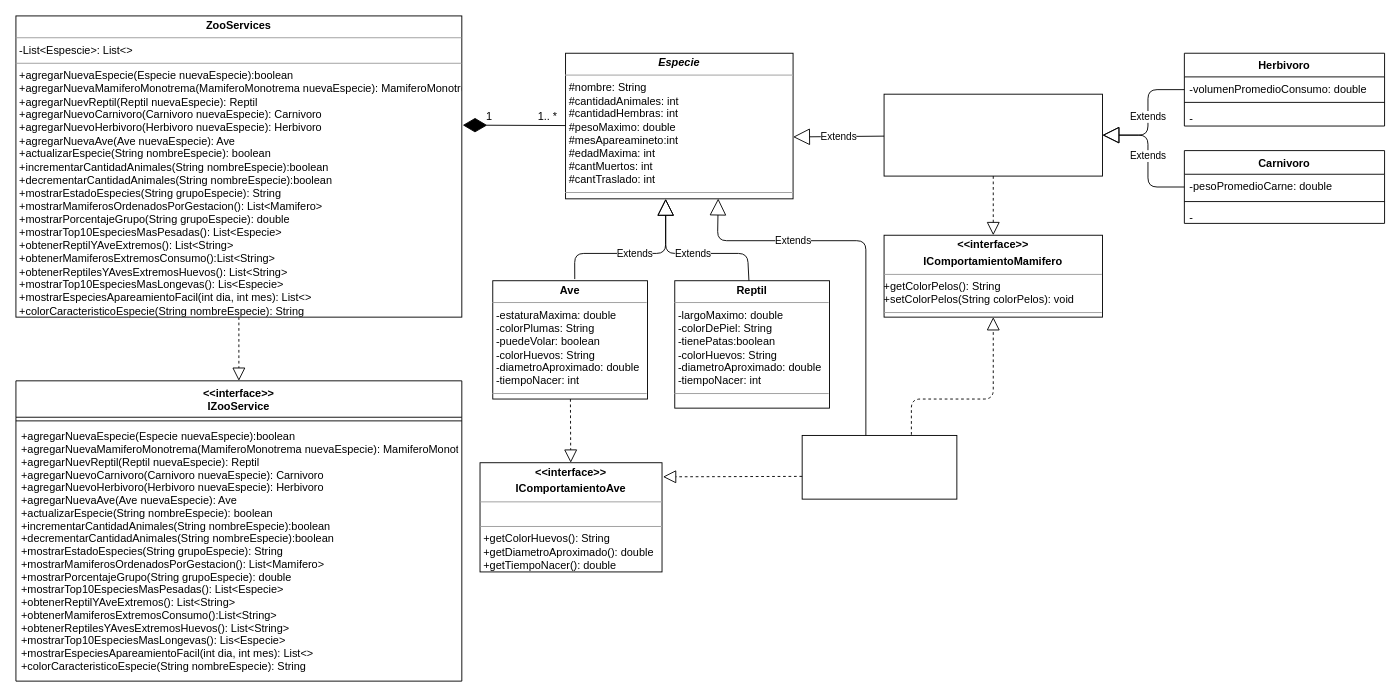
The diagram is 1400 pixels wide and 700 high, and some of its shapes have lost their labels. Here are the shapes that lost their labels. From the top down, the centre of each, then its label:
the point at 992,134: Mamifero #duracionGestación: int #colorPelos: String -
the point at 879,467: MamiferoMonotrema -
